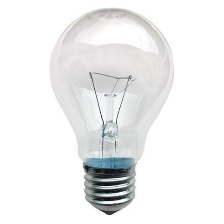light_bulb: (47, 5, 178, 217)
